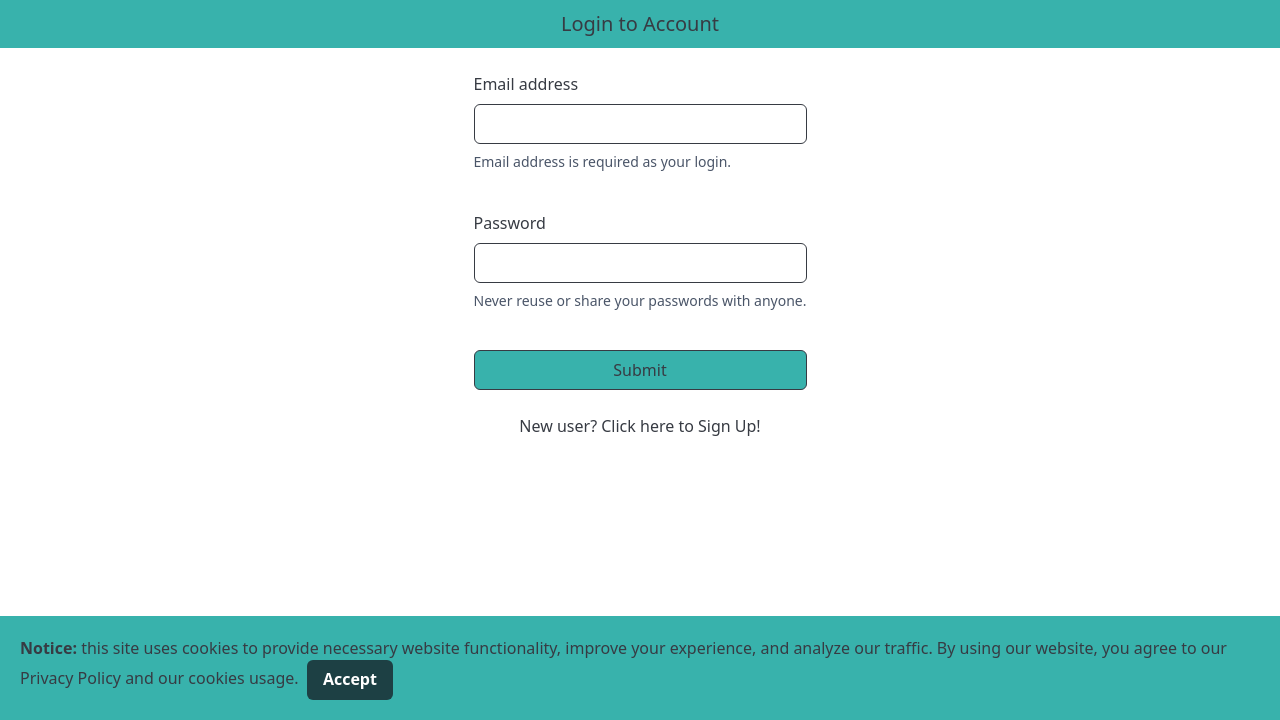
it: Login form submissions › Error validations › shows error when using an empty username
Click the button "Accept": (350, 680) [307,660,393,700]
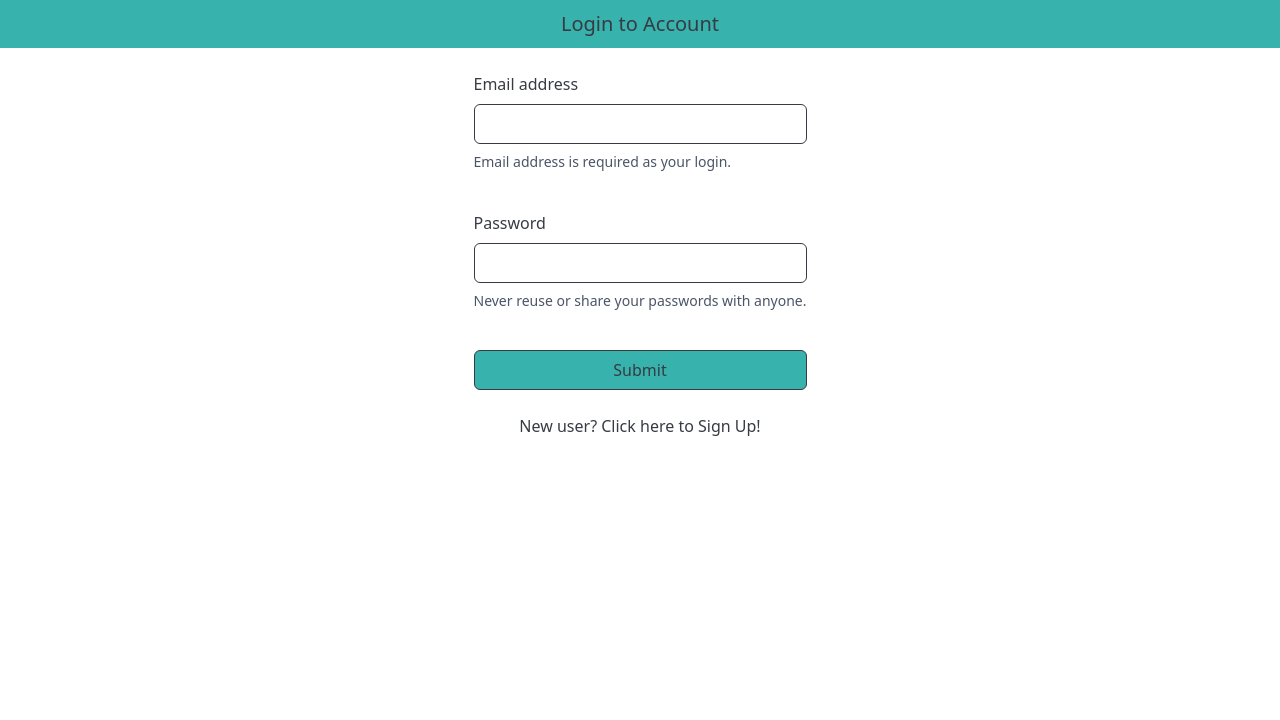
In the password field with test id "password": (641, 263) [474,243,807,283], type "asdfasdf"
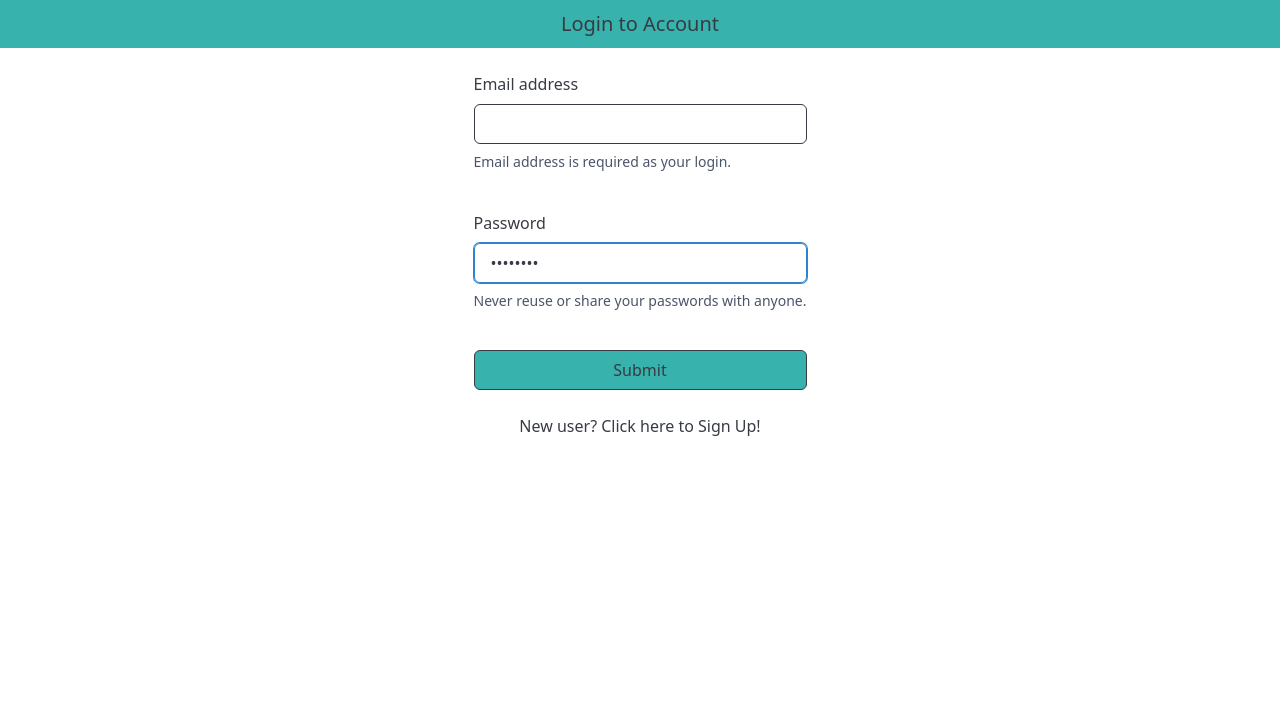
Click the button with test id "submit": (641, 370) [474,350,807,390]
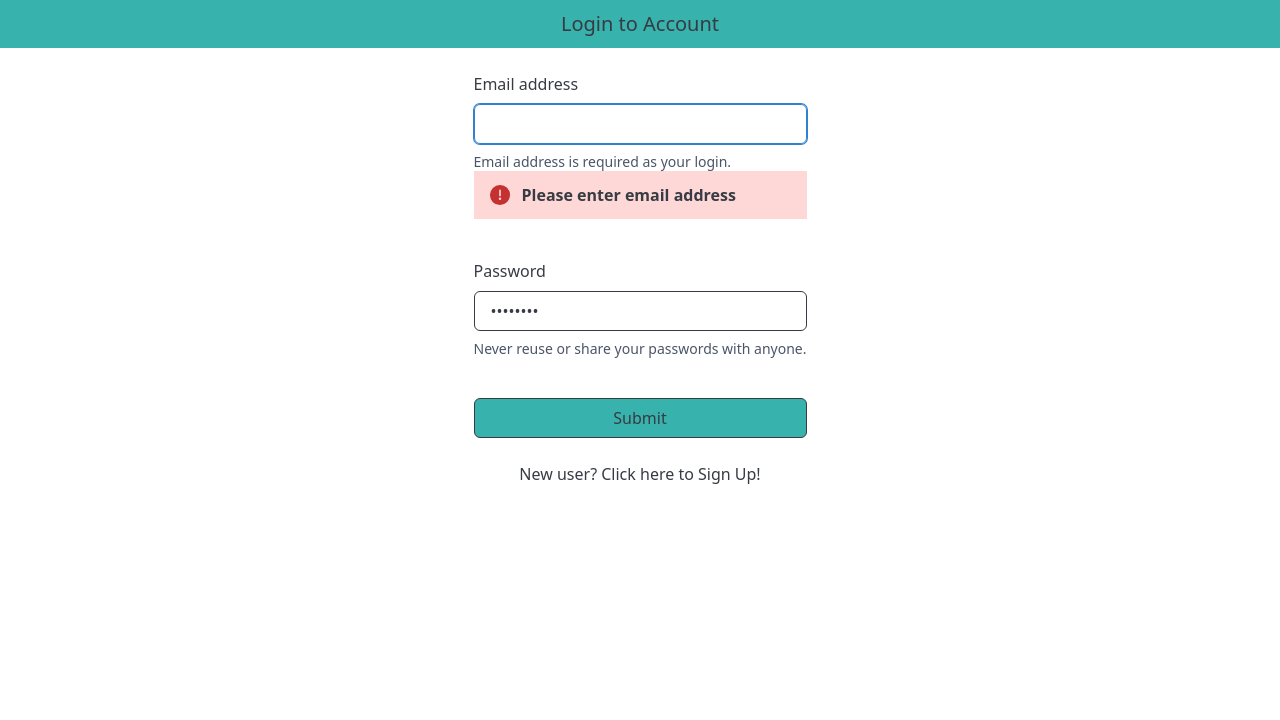
expect the message "Please enter email address" is shown: met, box [474,171,806,219]
